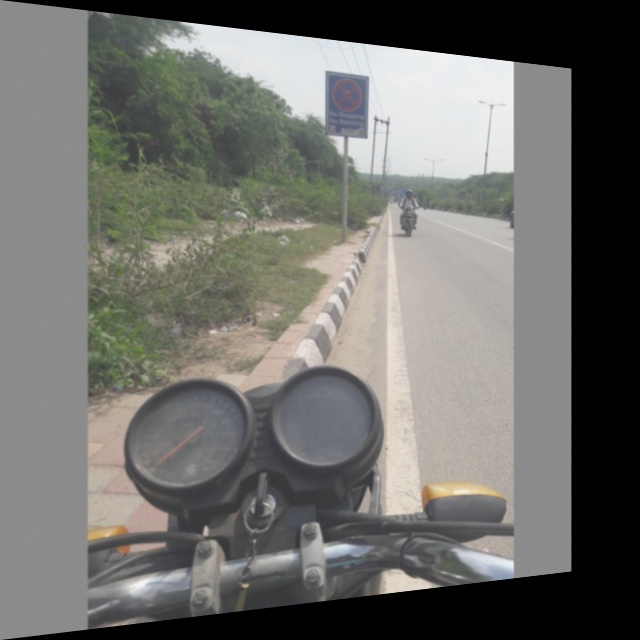No_Stopping_or_Standing: (326, 71, 370, 118)
